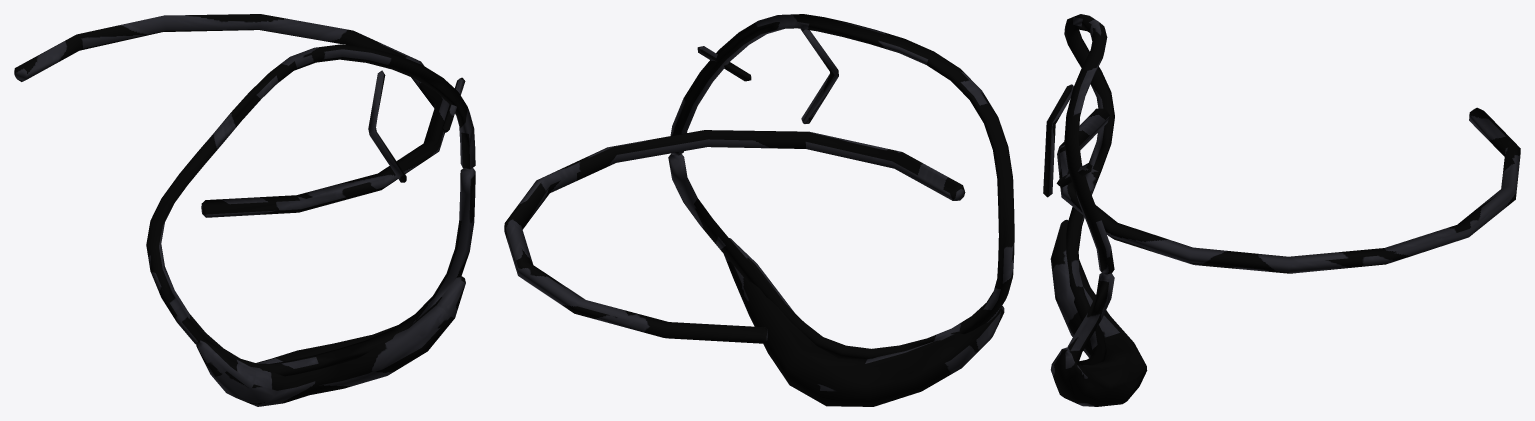
The model's file is Mascarada_MascaraComedia_Negro.fbx.
3 renders of one model, left to right at view 1: azimuth 30°, elevation 25°; view 2: azimuth 150°, elevation 25°; view 3: azimuth 270°, elevation 25°, orthographic. The views are drawn at different scales.
Visible parts, largest first — view 1: Mascarada_MascaraComedia_Negro; view 2: Mascarada_MascaraComedia_Negro; view 3: Mascarada_MascaraComedia_Negro.
Boxes of the visible parts, box(x1,y1,x2,y2) form: Mascarada_MascaraComedia_Negro: box(14, 14, 475, 406); Mascarada_MascaraComedia_Negro: box(504, 14, 1014, 406); Mascarada_MascaraComedia_Negro: box(1043, 14, 1520, 406).
Bounding box in the file's own units: 1.21 × 1.12 × 1.36.
